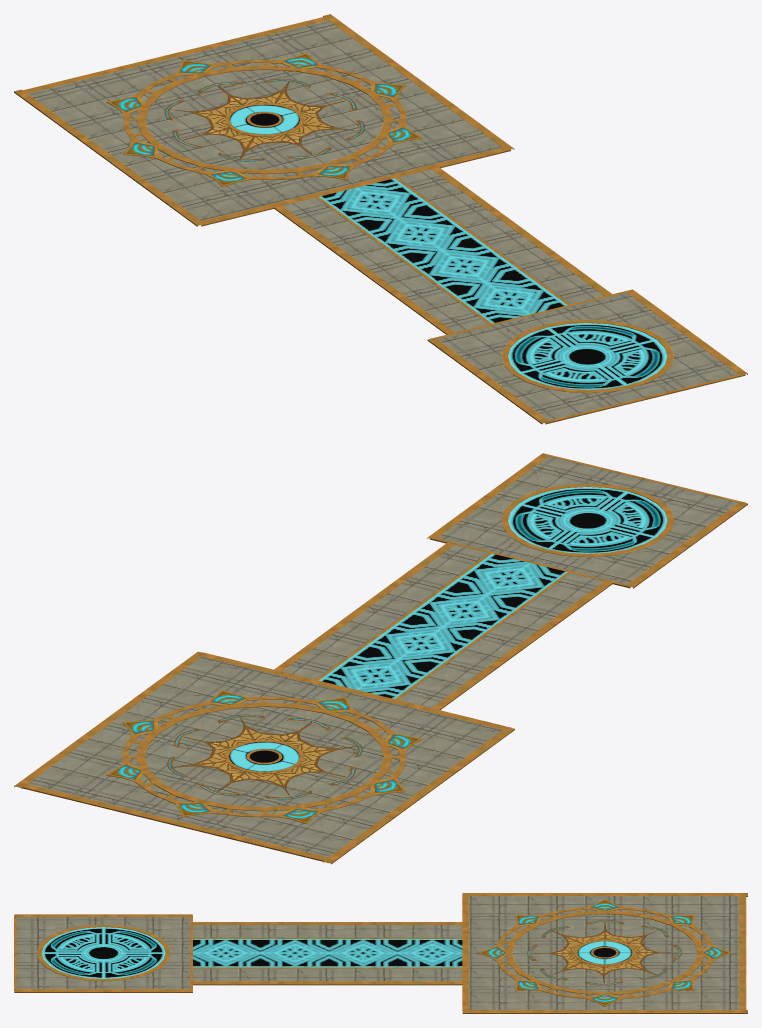
Rendered from Battle03_Plane_04.FBX.
The picture shows the model from 3 angles, top to bottom: view 1: azimuth 30°, elevation 25°; view 2: azimuth 150°, elevation 25°; view 3: azimuth 270°, elevation 25°; orthographic projection. The views are drawn at different scales.
Visible parts, largest first — view 1: Battle03_Plane_04_01, Battle03_Plane_04_02, Battle03_Plane_04_03, Battle03_Plane_04_04; view 2: Battle03_Plane_04_01, Battle03_Plane_04_02, Battle03_Plane_04_03, Battle03_Plane_04_04; view 3: Battle03_Plane_04_01, Battle03_Plane_04_02, Battle03_Plane_04_03, Battle03_Plane_04_04.
Boxes of the visible parts, <box> form: Battle03_Plane_04_01: <box>28,20,738,420</box>; Battle03_Plane_04_02: <box>14,14,747,424</box>; Battle03_Plane_04_03: <box>229,105,667,389</box>; Battle03_Plane_04_04: <box>164,79,364,161</box>; Battle03_Plane_04_01: <box>28,456,738,857</box>; Battle03_Plane_04_02: <box>14,453,747,864</box>; Battle03_Plane_04_03: <box>229,487,667,771</box>; Battle03_Plane_04_04: <box>167,714,362,799</box>; Battle03_Plane_04_01: <box>16,896,739,1009</box>; Battle03_Plane_04_02: <box>14,893,747,1013</box>; Battle03_Plane_04_03: <box>42,927,632,978</box>; Battle03_Plane_04_04: <box>527,920,681,985</box>.
Size of the model in its own units: 37 by 0.361 by 95.74.
